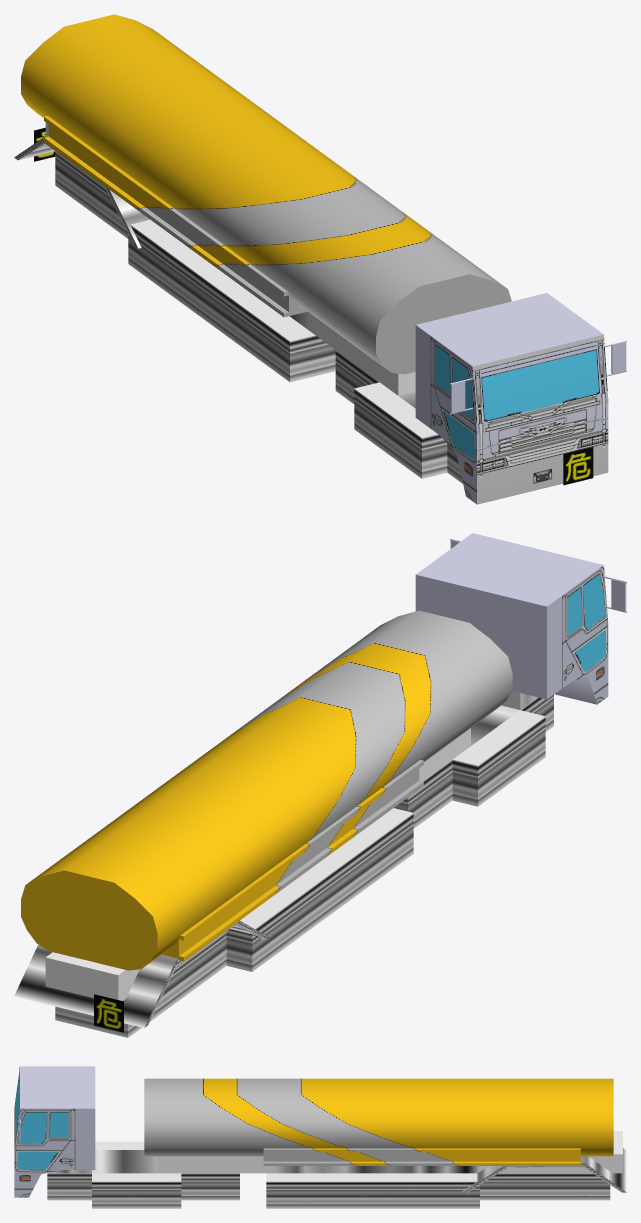
File: tanktruckbody.fbx
3 views of the same model, one above another, from view 1: azimuth 30°, elevation 25°; view 2: azimuth 150°, elevation 25°; view 3: azimuth 270°, elevation 25° (orthographic). The views are drawn at different scales.
Visible parts, largest first — view 1: tunk, cockpit, Chassis, cab, cowl, mirror; view 2: tunk, cockpit, Chassis, cab, cowl; view 3: tunk, Chassis, cockpit, cab, cowl.
Part boxes in pixels (bbox=[...]): tunk: bbox=[21, 14, 511, 374]; cockpit: bbox=[415, 293, 608, 504]; Chassis: bbox=[45, 122, 415, 395]; cab: bbox=[335, 350, 593, 485]; cowl: bbox=[14, 127, 149, 248]; mirror: bbox=[450, 340, 626, 414]; tunk: bbox=[21, 610, 512, 970]; cockpit: bbox=[415, 533, 608, 704]; Chassis: bbox=[45, 728, 470, 1037]; cab: bbox=[394, 691, 553, 828]; cowl: bbox=[14, 921, 268, 1032]; tunk: bbox=[144, 1078, 613, 1165]; Chassis: bbox=[157, 1131, 622, 1208]; cockpit: bbox=[14, 1066, 95, 1197]; cab: bbox=[47, 1141, 239, 1208]; cowl: bbox=[462, 1148, 626, 1192].
Size of the model in its own units: 271 by 226 by 1233.
6 materials, 6 textured.
